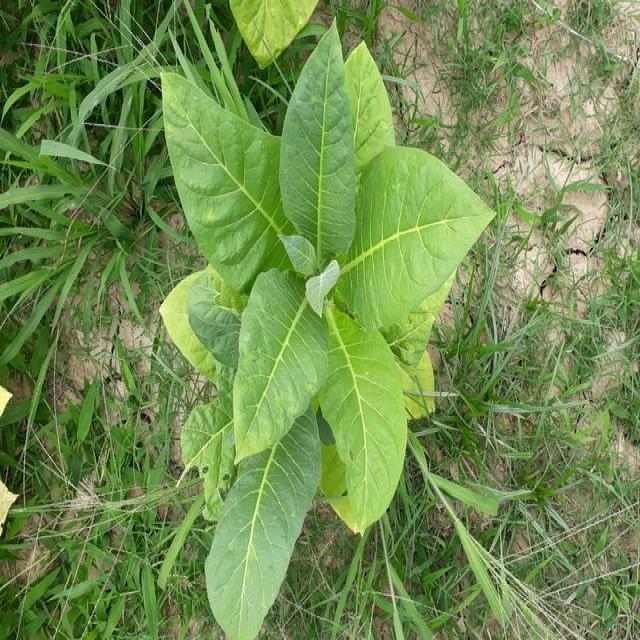crop: (154, 29, 458, 640)
